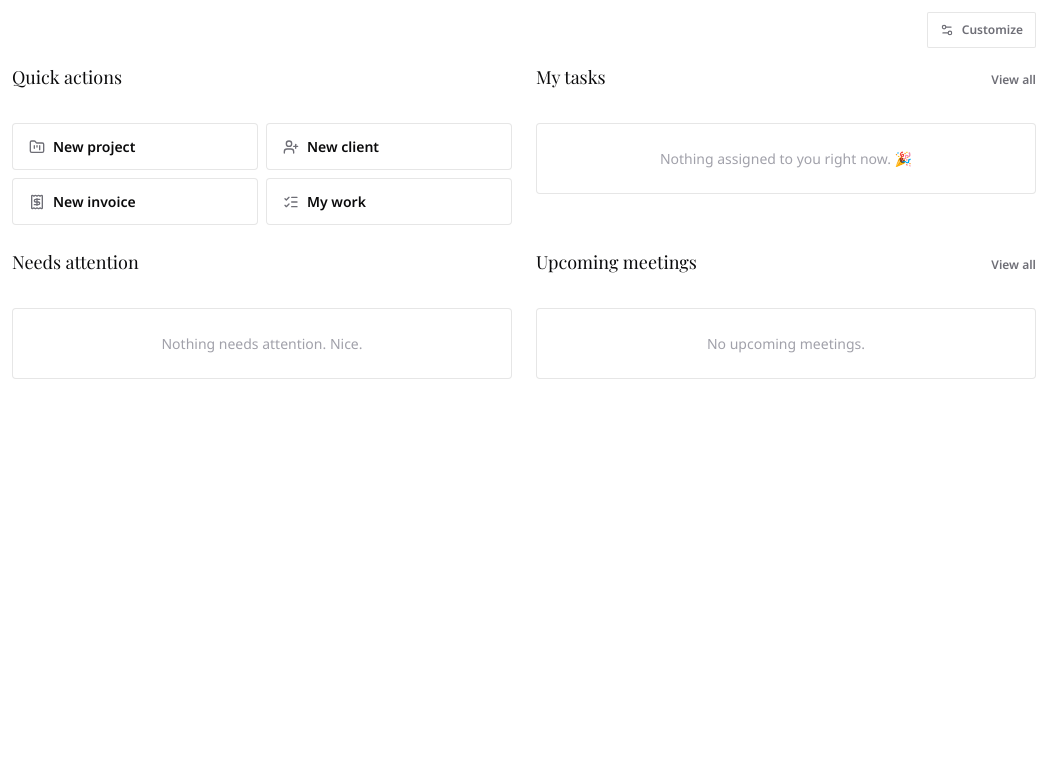
it: DashboardWidgetGrid › resets order and hidden widgets to default
This screenshot has width=1048, height=780.
Click the button "Customize" at [981, 30], box [927, 12, 1036, 48]
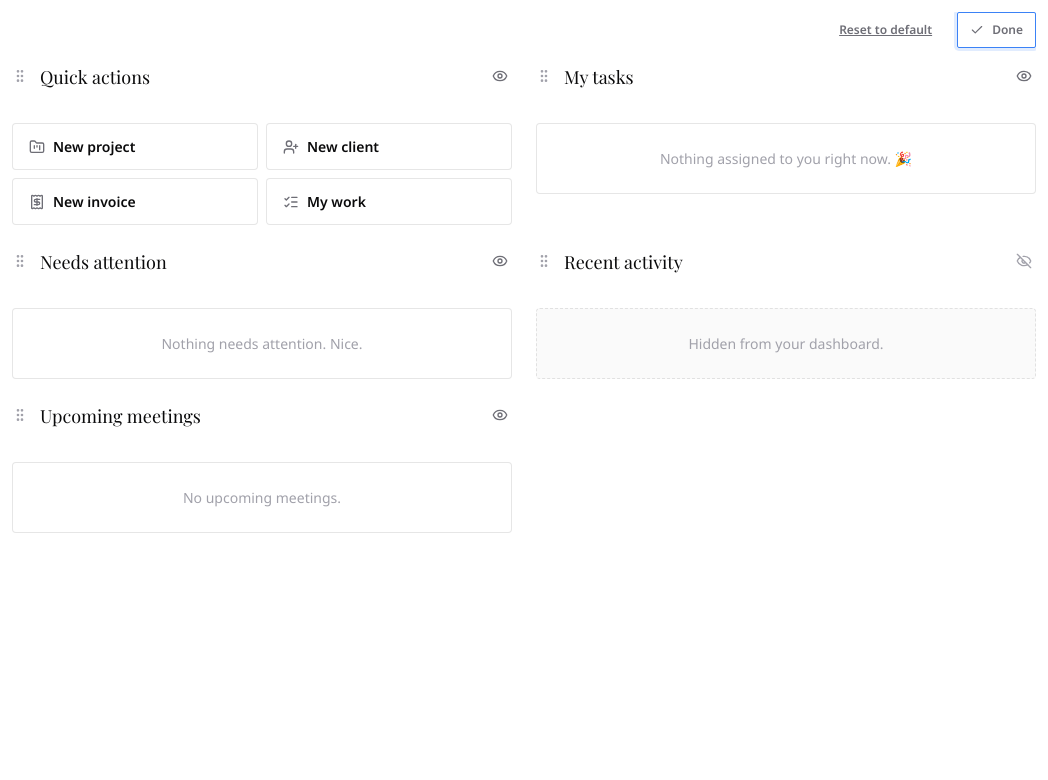
Click the button "Reset to default" at [886, 30], box [826, 12, 945, 48]
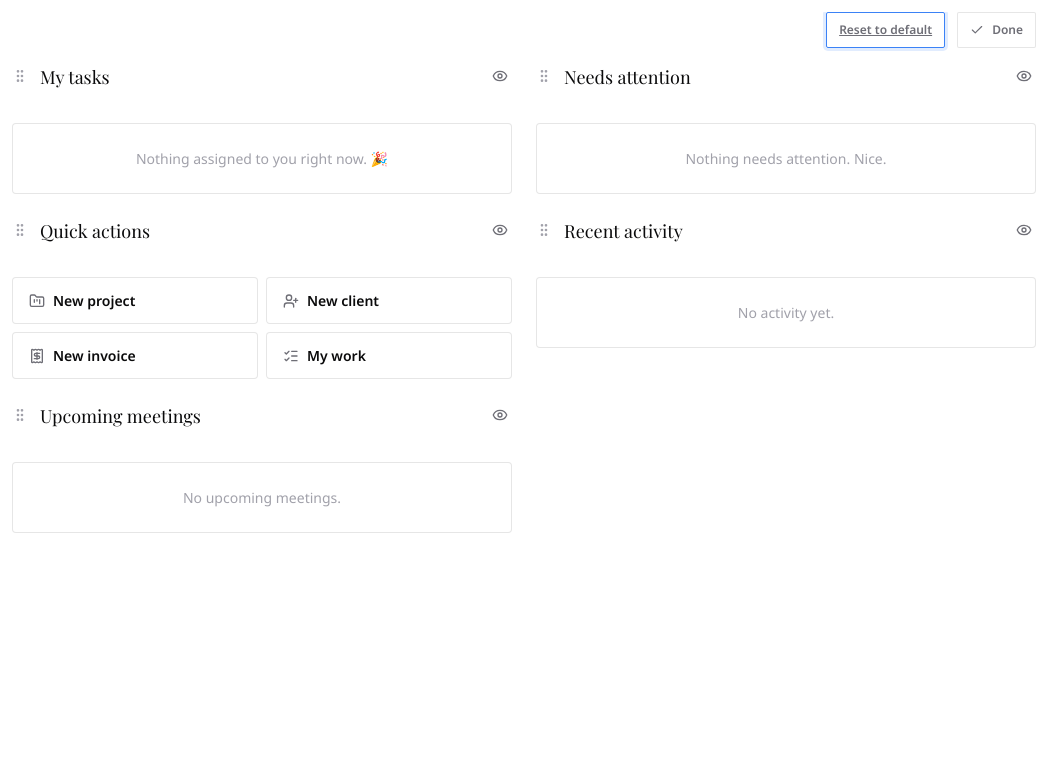
Result: the headings read "My tasks", "Needs attention", "Quick actions", "Recent activity", "Upcoming meetings", in this order at [40, 65, 110, 89]; [564, 65, 691, 89]; [40, 219, 150, 243]; [564, 219, 683, 243]; [40, 404, 201, 428]
